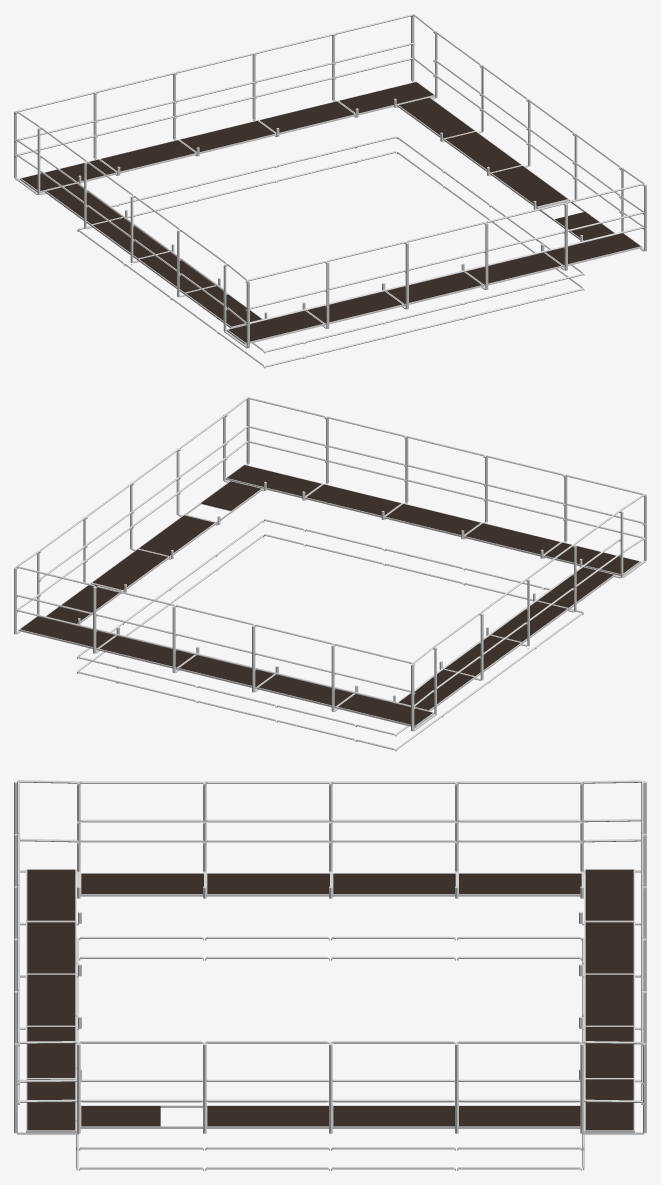
File: House_Top_Geruest_Anim.glb
3 renders of one model, top to bottom at view 1: azimuth 30°, elevation 25°; view 2: azimuth 150°, elevation 25°; view 3: azimuth 270°, elevation 25°, orthographic. The views are drawn at different scales.
Parts seen in each view (by area): view 1: Geruest_groß.004; view 2: Geruest_groß.004; view 3: Geruest_groß.004.
Part boxes in pixels (x1,y1,x2,y2): Geruest_groß.004: (14, 14, 646, 368); Geruest_groß.004: (14, 397, 646, 751); Geruest_groß.004: (14, 780, 646, 1170).
Size of the model in its own units: 13.21 by 3.6 by 13.39.
